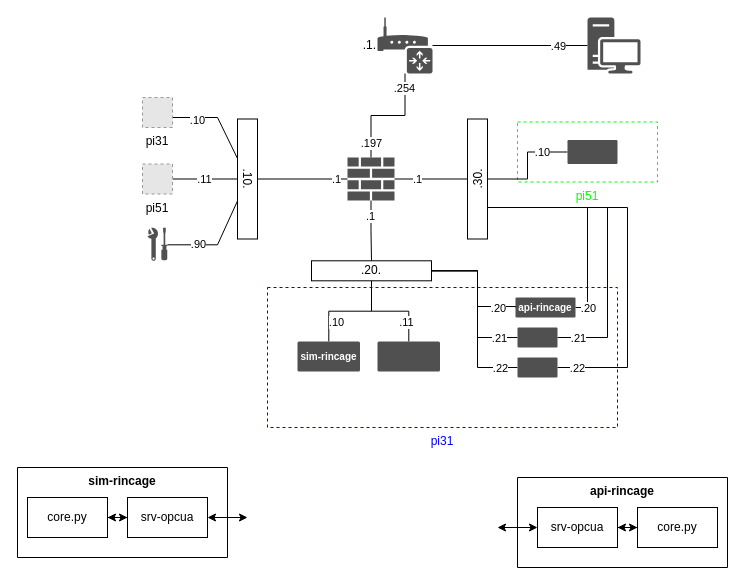
Image size: 745x585. Some labels were removed from this diagram. Grey dashed boxes stand in for pictures. Each missing label, with the centre of its shape:
"adm-dlink" goes at (157,243).
"api2" goes at (537,337).
"api3" goes at (537,367).
"scada1" goes at (592,152).
"sim-es-2" goes at (408,356).
